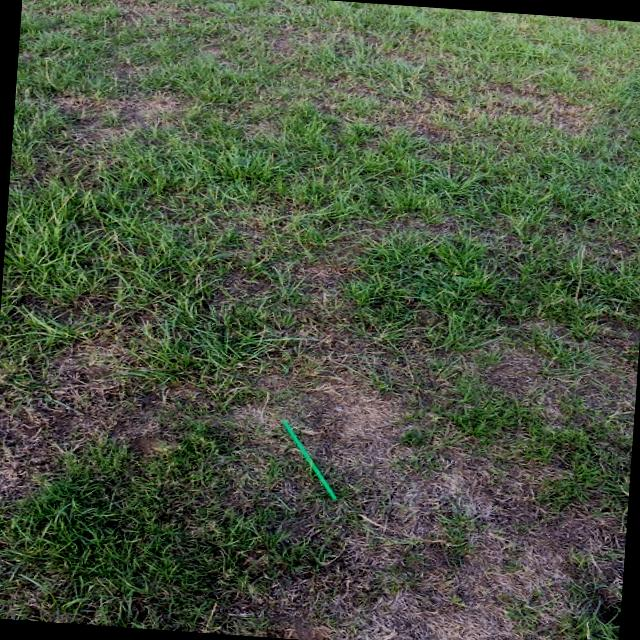Trash: (275, 420, 344, 500)
